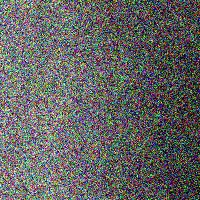pitted_surface: (76, 1, 200, 200)
